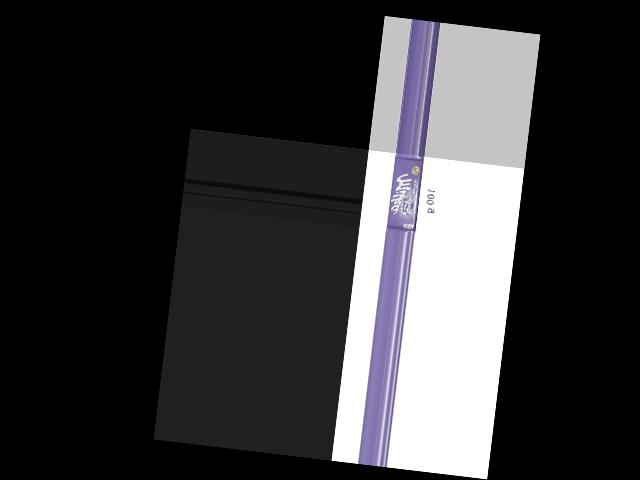chocolate: (385, 155, 429, 235)
